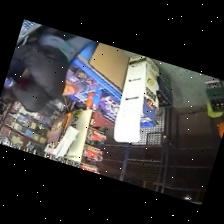person: (11, 29, 90, 111)
